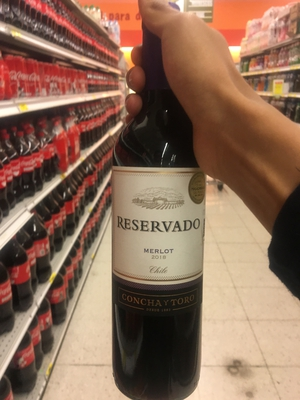reservado merlot: (97, 4, 226, 400)
